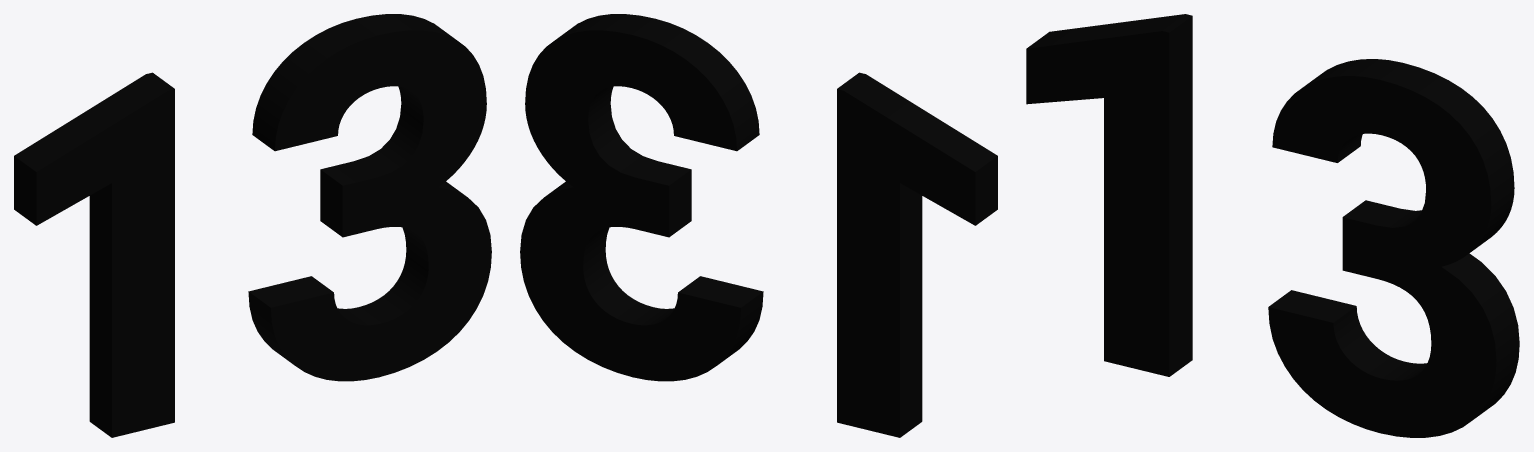
Rendered from thirteen.fbx.
3 renders of one model, left to right at view 1: azimuth 30°, elevation 25°; view 2: azimuth 150°, elevation 25°; view 3: azimuth 330°, elevation 25°, orthographic. The views are drawn at different scales.
Visible parts, largest first — view 1: node_id237; view 2: node_id237; view 3: node_id237.
Boxes of the visible parts, x1,y1,x2,y2 form: node_id237: (14, 14, 491, 437); node_id237: (520, 14, 997, 437); node_id237: (1026, 14, 1519, 437).
Bounding box in the file's own units: 0.3001 × 0.2156 × 0.0256.
1 material, 1 textured.
